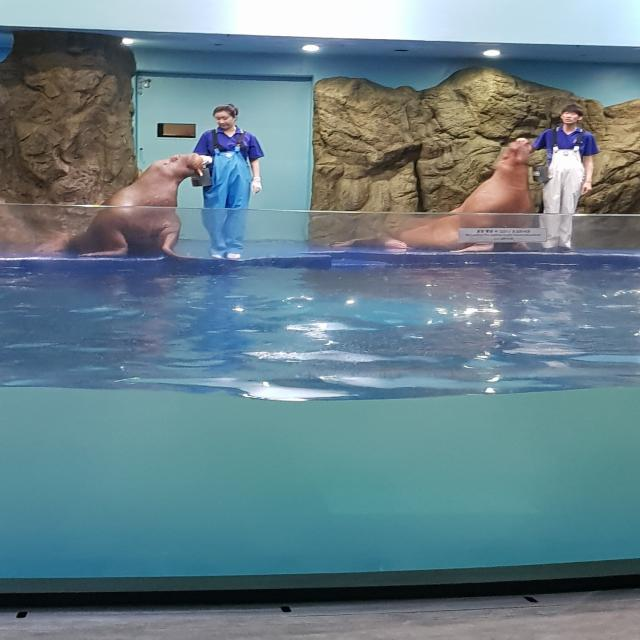walrus: (359, 129, 541, 254), (52, 153, 212, 262)
